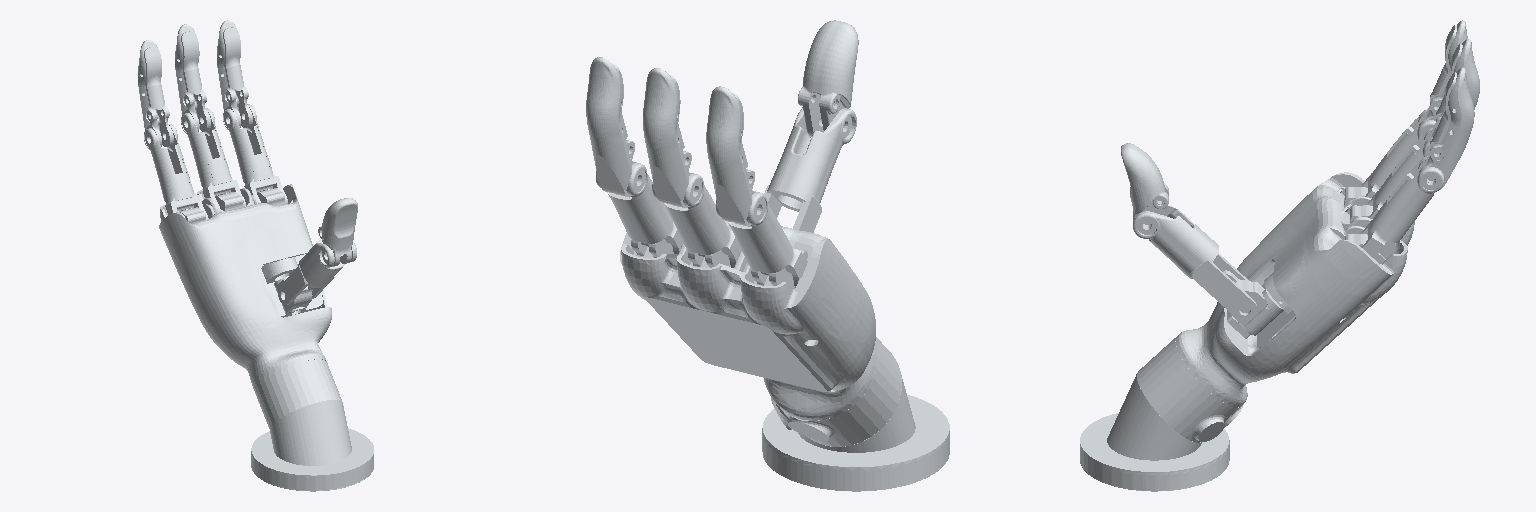
The robot description file, URDF, robot "robot":
<?xml version="1.0" encoding="utf-8"?>
<!-- This URDF was automatically created by SolidWorks to URDF Exporter! Originally created by Stephen Brawner (brawner@gmail.com) 
     Commit Version: 1.6.0-4-g7f85cfe  Build Version: 1.6.7995.38578
     For more information, please see http://wiki.ros.org/sw_urdf_exporter -->
<robot
  name="">
  <link
    name="base_link">
    <inertial>
      <origin
        xyz="0.00016522411077056 0.028120049218324 0.0432421256677567"
        rpy="0 0 0" />
      <mass
        value="0.333430748577483" />
      <inertia
        ixx="8.46068318705448E-05"
        ixy="-9.41582652229483E-07"
        ixz="-5.54403744518448E-07"
        iyy="9.29178978110517E-05"
        iyz="-1.78880253798488E-05"
        izz="0.000112660476708996" />
    </inertial>
    <visual>
      <origin
        xyz="0 0 0"
        rpy="0 0 0" />
      <geometry>
        <mesh
          filename="package:///meshes/base_link.STL" />
      </geometry>
      <material
        name="">
        <color
          rgba="0.898039215686275 0.917647058823529 0.929411764705882 1" />
      </material>
    </visual>
    <collision>
      <origin
        xyz="0 0 0"
        rpy="0 0 0" />
      <geometry>
        <mesh
          filename="package:///meshes/base_right.obj" />
      </geometry>
    </collision>
  </link>
  <link
    name="Link1">
    <inertial>
      <origin
        xyz="-0.000523045833801567 -0.00631202278003956 0.00888540637035787"
        rpy="0 0 0" />
      <mass
        value="0.00805930596489254" />
      <inertia
        ixx="5.20089316989684E-07"
        ixy="-1.45539645796964E-08"
        ixz="-2.14727741089648E-09"
        iyy="2.54023624673569E-07"
        iyz="-2.91781698777839E-08"
        izz="4.51020977059194E-07" />
    </inertial>
    <visual>
      <origin
        xyz="0 0 0"
        rpy="0 0 0" />
      <geometry>
        <mesh
          filename="package:///meshes/Link1.STL" />
      </geometry>
      <material
        name="">
        <color
          rgba="0.898039215686275 0.917647058823529 0.929411764705882 1" />
      </material>
    </visual>
    <collision>
      <origin
        xyz="0 0 0"
        rpy="0 0 0" />
      <geometry>
        <mesh
          filename="package:///meshes/1.obj" />
      </geometry>
    </collision>
  </link>
  <joint
    name="joint1"
    type="revolute">
    <origin
      xyz="0.012965 0.038173 0.068053"
      rpy="-0.7854 0 0" />
    <parent
      link="base_link" />
    <child
      link="Link1" />
    <axis
      xyz="0 0 -1" />
    <limit
      lower="-3.14"
      upper="3.14"
      effort="0"
      velocity="0" />
  </joint>
  <link
    name="Link2">
    <inertial>
      <origin
        xyz="-0.0321378396765397 -0.000311760881910522 0.0087110213931243"
        rpy="0 0 0" />
      <mass
        value="0.0153867738699871" />
      <inertia
        ixx="9.12253890496953E-07"
        ixy="3.59152628210516E-08"
        ixz="9.22769967270314E-12"
        iyy="4.19377086264279E-06"
        iyz="1.36241356331187E-12"
        izz="3.9720843272046E-06" />
    </inertial>
    <visual>
      <origin
        xyz="0 0 0"
        rpy="0 0 0" />
      <geometry>
        <mesh
          filename="package:///meshes/Link2.STL" />
      </geometry>
      <material
        name="">
        <color
          rgba="0.898039215686275 0.917647058823529 0.929411764705882 1" />
      </material>
    </visual>
    <collision>
      <origin
        xyz="0 0 0"
        rpy="0 0 0" />
      <geometry>
        <mesh
          filename="package:///meshes/2.obj" />
      </geometry>
    </collision>
  </link>
  <joint
    name="joint2"
    type="revolute">
    <origin
      xyz="0.008711 -0.0083 0.008"
      rpy="-1.5708 0 1.5708" />
    <parent
      link="Link1" />
    <child
      link="Link2" />
    <axis
      xyz="0 0 1" />
    <limit
      lower="-3.14"
      upper="3.14"
      effort="0"
      velocity="0" />
  </joint>
  <link
    name="Link3">
    <inertial>
      <origin
        xyz="0.0123131870351298 0.0102971012432425 0.00700317917620329"
        rpy="0 0 0" />
      <mass
        value="0.0145063701357924" />
      <inertia
        ixx="7.608467729566E-07"
        ixy="-4.93353331333105E-07"
        ixz="5.84281881574387E-11"
        iyy="1.21761440250298E-06"
        iyz="-8.62276159828097E-12"
        izz="1.48055344280834E-06" />
    </inertial>
    <visual>
      <origin
        xyz="0 0 0"
        rpy="0 0 0" />
      <geometry>
        <mesh
          filename="package:///meshes/Link3.STL" />
      </geometry>
      <material
        name="">
        <color
          rgba="0.898039215686275 0.917647058823529 0.929411764705882 1" />
      </material>
    </visual>
    <collision>
      <origin
        xyz="0 0 0"
        rpy="0 0 0" />
      <geometry>
        <mesh
          filename="package:///meshes/3.obj" />
      </geometry>
    </collision>
  </link>
  <joint
    name="joint3"
    type="revolute">
    <origin
      xyz="-0.056287 0.0019734 0.001709"
      rpy="0 0 -3.1416" />
    <parent
      link="Link2" />
    <child
      link="Link3" />
    <axis
      xyz="0 0 1" />
    <limit
      lower="-3.14"
      upper="3.14"
      effort="0"
      velocity="0" />
  </joint>
  <link
    name="Link4">
    <inertial>
      <origin
        xyz="0.00187823746609977 0.0243812641933947 0.00869653704982463"
        rpy="0 0 0" />
      <mass
        value="0.0107338057674654" />
      <inertia
        ixx="2.10604885795627E-06"
        ixy="-1.53995056675546E-07"
        ixz="-7.90786572315949E-12"
        iyy="4.24620463593539E-07"
        iyz="2.0832252484066E-11"
        izz="1.9303253176439E-06" />
    </inertial>
    <visual>
      <origin
        xyz="0 0 0"
        rpy="0 0 0" />
      <geometry>
        <mesh
          filename="package:///meshes/Link4.STL" />
      </geometry>
      <material
        name="">
        <color
          rgba="0.898039215686275 0.917647058823529 0.929411764705882 1" />
      </material>
    </visual>
    <collision>
      <origin
        xyz="0 0 0"
        rpy="0 0 0" />
      <geometry>
        <mesh
          filename="package:///meshes/4.obj" />
      </geometry>
    </collision>
  </link>
  <joint
    name="joint4"
    type="revolute">
    <origin
      xyz="0.032661 0.086892 0.10702"
      rpy="1.5708 -0.7854 -1.5708" />
    <parent
      link="base_link" />
    <child
      link="Link4" />
    <axis
      xyz="0 0 -1" />
    <limit
      lower="-3.14"
      upper="3.14"
      effort="0"
      velocity="0" />
  </joint>
  <link
    name="Link7">
    <inertial>
      <origin
        xyz="0.00850077629731509 0.0208838334956136 0.0069497485435761"
        rpy="0 0 0" />
      <mass
        value="0.0129162133874265" />
      <inertia
        ixx="1.9181339813363E-06"
        ixy="-9.8076366627682E-07"
        ixz="-2.45329282749014E-11"
        iyy="8.37010359469058E-07"
        iyz="1.89205365535309E-12"
        izz="2.50438510396621E-06" />
    </inertial>
    <visual>
      <origin
        xyz="0 0 0"
        rpy="0 0 0" />
      <geometry>
        <mesh
          filename="package:///meshes/Link7.STL" />
      </geometry>
      <material
        name="">
        <color
          rgba="0.898039215686275 0.917647058823529 0.929411764705882 1" />
      </material>
    </visual>
    <collision>
      <origin
        xyz="0 0 0"
        rpy="0 0 0" />
      <geometry>
        <mesh
          filename="package:///meshes/7.obj" />
      </geometry>
    </collision>
  </link>
  <joint
    name="joint7"
    type="revolute">
    <origin
      xyz="0.0051963 0.046737 0.0017459"
      rpy="0 0 0" />
    <parent
      link="Link4" />
    <child
      link="Link7" />
    <axis
      xyz="0 0 -1" />
    <limit
      lower="-3.14"
      upper="3.14"
      effort="0"
      velocity="0" />
  </joint>
  <link
    name="Link5">
    <inertial>
      <origin
        xyz="0.00187823746610112 0.0243812641933959 0.00869653704982475"
        rpy="0 0 0" />
      <mass
        value="0.0107338057674661" />
      <inertia
        ixx="2.10604885426667E-06"
        ixy="-1.53995032582748E-07"
        ixz="-7.90786575963146E-12"
        iyy="4.24620717227642E-07"
        iyz="2.08322524724928E-11"
        izz="1.93032556758839E-06" />
    </inertial>
    <visual>
      <origin
        xyz="0 0 0"
        rpy="0 0 0" />
      <geometry>
        <mesh
          filename="package:///meshes/Link5.STL" />
      </geometry>
      <material
        name="">
        <color
          rgba="0.898039215686275 0.917647058823529 0.929411764705882 1" />
      </material>
    </visual>
    <collision>
      <origin
        xyz="0 0 0"
        rpy="0 0 0" />
      <geometry>
        <mesh
          filename="package:///meshes/5.obj" />
      </geometry>
    </collision>
  </link>
  <joint
    name="joint5"
    type="revolute">
    <origin
      xyz="0.009334 0.089226 0.10935"
      rpy="1.5708 -0.7854 -1.5708" />
    <parent
      link="base_link" />
    <child
      link="Link5" />
    <axis
      xyz="0 0 -1" />
    <limit
      lower="-3.14"
      upper="3.14"
      effort="0"
      velocity="0" />
  </joint>
  <link
    name="Link8">
    <inertial>
      <origin
        xyz="0.00850077397388231 0.0208838302033923 0.00694974883871507"
        rpy="0 0 0" />
      <mass
        value="0.0129162102205964" />
      <inertia
        ixx="1.91813325418524E-06"
        ixy="-9.80763151888881E-07"
        ixz="-2.45523644514063E-11"
        iyy="8.37009931663809E-07"
        iyz="1.84627561908123E-12"
        izz="2.50438402769732E-06" />
    </inertial>
    <visual>
      <origin
        xyz="0 0 0"
        rpy="0 0 0" />
      <geometry>
        <mesh
          filename="package:///meshes/Link8.STL" />
      </geometry>
      <material
        name="">
        <color
          rgba="0.898039215686275 0.917647058823529 0.929411764705882 1" />
      </material>
    </visual>
    <collision>
      <origin
        xyz="0 0 0"
        rpy="0 0 0" />
      <geometry>
        <mesh
          filename="package:///meshes/8.obj" />
      </geometry>
    </collision>
  </link>
  <joint
    name="joint8"
    type="revolute">
    <origin
      xyz="0.0051963 0.046737 0.0017459"
      rpy="0 0 0" />
    <parent
      link="Link5" />
    <child
      link="Link8" />
    <axis
      xyz="0 0 -1" />
    <limit
      lower="-3.14"
      upper="3.14"
      effort="0"
      velocity="0" />
  </joint>
  <link
    name="Link6">
    <inertial>
      <origin
        xyz="0.00187823746609321 0.0243812641933961 0.00869653704982839"
        rpy="0 0 0" />
      <mass
        value="0.0107338057674827" />
      <inertia
        ixx="2.10604885243557E-06"
        ixy="-1.539951056682E-07"
        ixz="-7.90786557641213E-12"
        iyy="4.24619896743171E-07"
        iyz="2.08322524516883E-11"
        izz="1.93032474527263E-06" />
    </inertial>
    <visual>
      <origin
        xyz="0 0 0"
        rpy="0 0 0" />
      <geometry>
        <mesh
          filename="package:///meshes/Link6.STL" />
      </geometry>
      <material
        name="">
        <color
          rgba="0.898039215686275 0.917647058823529 0.929411764705882 1" />
      </material>
    </visual>
    <collision>
      <origin
        xyz="0 0 0"
        rpy="0 0 0" />
      <geometry>
        <mesh
          filename="package:///meshes/6.obj" />
      </geometry>
    </collision>
  </link>
  <joint
    name="joint6"
    type="revolute">
    <origin
      xyz="-0.013993 0.086892 0.10702"
      rpy="1.5708 -0.7854 -1.5708" />
    <parent
      link="base_link" />
    <child
      link="Link6" />
    <axis
      xyz="0 0 -1" />
    <limit
      lower="-3.14"
      upper="3.14"
      effort="0"
      velocity="0" />
  </joint>
  <link
    name="Link9">
    <inertial>
      <origin
        xyz="0.00850077485568641 0.020883831225043 0.00694974911649317"
        rpy="0 0 0" />
      <mass
        value="0.0129162111132175" />
      <inertia
        ixx="1.91813350030591E-06"
        ixy="-9.80763357505775E-07"
        ixz="-2.46055990667935E-11"
        iyy="8.37010122461982E-07"
        iyz="1.78457028672957E-12"
        izz="2.50438443834768E-06" />
    </inertial>
    <visual>
      <origin
        xyz="0 0 0"
        rpy="0 0 0" />
      <geometry>
        <mesh
          filename="package:///meshes/Link9.STL" />
      </geometry>
      <material
        name="">
        <color
          rgba="0.898039215686275 0.917647058823529 0.929411764705882 1" />
      </material>
    </visual>
    <collision>
      <origin
        xyz="0 0 0"
        rpy="0 0 0" />
      <geometry>
        <mesh
          filename="package:///meshes/9.obj" />
      </geometry>
    </collision>
  </link>
  <joint
    name="joint9"
    type="revolute">
    <origin
      xyz="0.0051963 0.046737 0.0017459"
      rpy="0 0 0" />
    <parent
      link="Link6" />
    <child
      link="Link9" />
    <axis
      xyz="0 0 -1" />
    <limit
      lower="-3.14"
      upper="3.14"
      effort="0"
      velocity="0" />
  </joint>
</robot>

--- What the picture shows (computed from the rendered views, not written in the file) ---
The picture shows the robot from 3 angles, left to right: view 1: azimuth 30°, elevation 25°; view 2: azimuth 150°, elevation 25°; view 3: azimuth 270°, elevation 25°; orthographic projection.
Robot: robot — 10 links, 9 joints (9 revolute); root link base_link; default pose: all joints at 0.
Links seen in each view (by area): view 1: base_link, Link5, Link4, Link6, Link8, Link7, Link9, Link2, Link3, Link1; view 2: base_link, Link2, Link3, Link7, Link8, Link9, Link6, Link5, Link4; view 3: base_link, Link2, Link4, Link7, Link3, Link6, Link1, Link5, Link9, Link8.
Boxes of the visible links, box(x1,y1,x2,y2) form: base_link: box(159, 184, 373, 491); Link5: box(181, 108, 245, 209); Link4: box(223, 104, 287, 203); Link6: box(144, 124, 208, 219); Link8: box(175, 24, 210, 131); Link7: box(217, 20, 252, 127); Link9: box(138, 40, 173, 146); Link2: box(278, 240, 356, 304); Link3: box(318, 198, 357, 266); Link1: box(274, 276, 312, 315); base_link: box(620, 220, 949, 491); Link2: box(764, 107, 856, 232); Link3: box(798, 20, 858, 136); Link7: box(586, 57, 636, 196); Link8: box(643, 68, 693, 207); Link9: box(706, 86, 755, 226); Link6: box(716, 192, 807, 287); Link5: box(652, 174, 740, 267); Link4: box(596, 163, 682, 253); base_link: box(1080, 172, 1414, 491); Link2: box(1133, 205, 1256, 320); Link4: box(1359, 156, 1444, 258); Link7: box(1418, 67, 1474, 189); Link3: box(1121, 143, 1168, 227); Link6: box(1359, 109, 1435, 197); Link1: box(1222, 270, 1283, 335); Link5: box(1365, 128, 1432, 218); Link9: box(1418, 20, 1467, 126); Link8: box(1424, 39, 1479, 144).
Bounding box of the posed robot: 0.073 × 0.1684 × 0.1954 m (x, y, z).
10 mesh visuals loaded from 10 distinct referenced files (10 binary STL).
